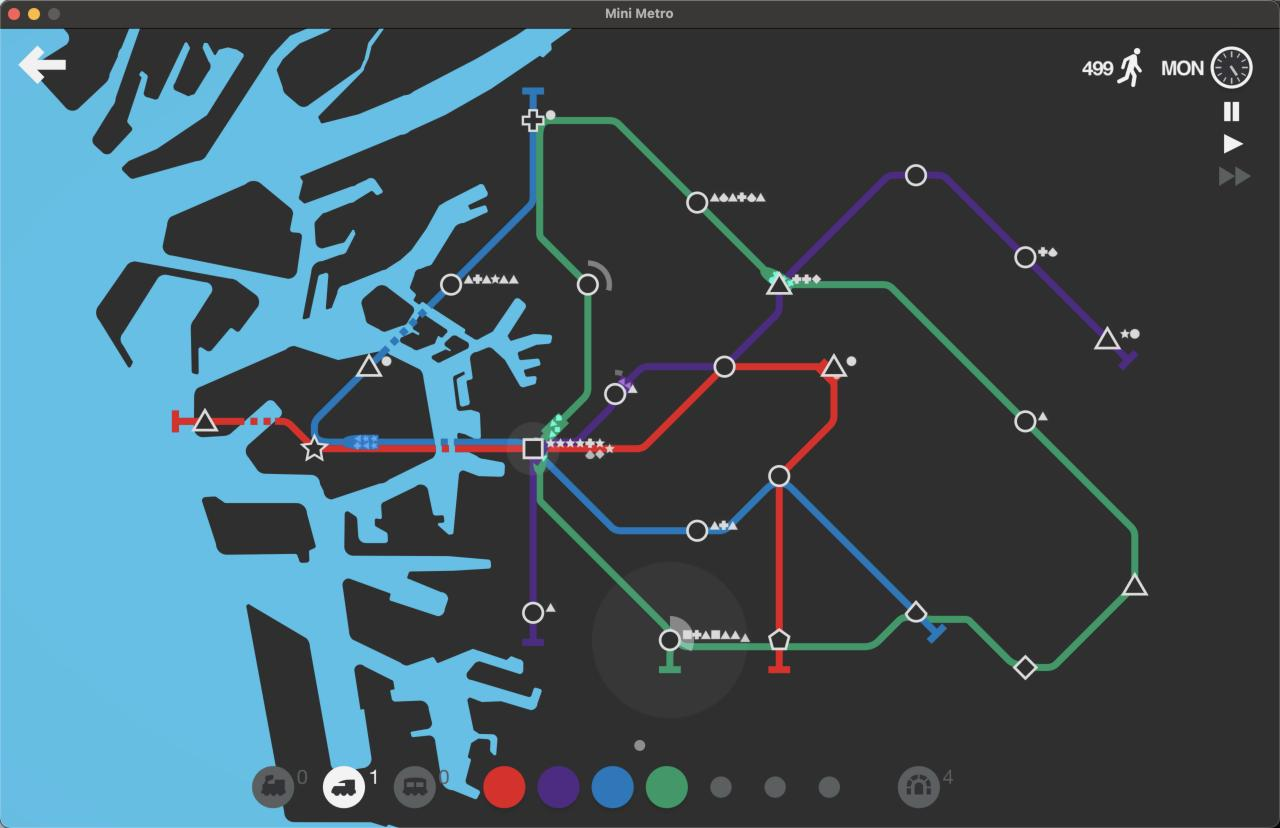CIRCLE: (520, 598, 545, 625), (575, 272, 600, 296), (604, 382, 628, 406), (439, 273, 463, 297), (658, 628, 681, 652), (905, 163, 928, 187), (1015, 410, 1038, 433), (1014, 246, 1037, 269), (686, 191, 709, 214), (768, 464, 791, 487), (713, 355, 736, 378), (686, 519, 708, 543)
CROSS: (516, 102, 550, 134)
PENTAGON: (763, 624, 794, 652), (1013, 654, 1037, 681)
SQUARE: (522, 437, 545, 460)
STAR: (295, 434, 330, 464)
TRIANGLE: (759, 270, 796, 298), (819, 352, 850, 379), (1093, 325, 1121, 352), (355, 353, 384, 379), (192, 408, 220, 434), (1121, 573, 1147, 596)
WEDGE: (905, 597, 928, 627), (882, 460, 889, 496)
